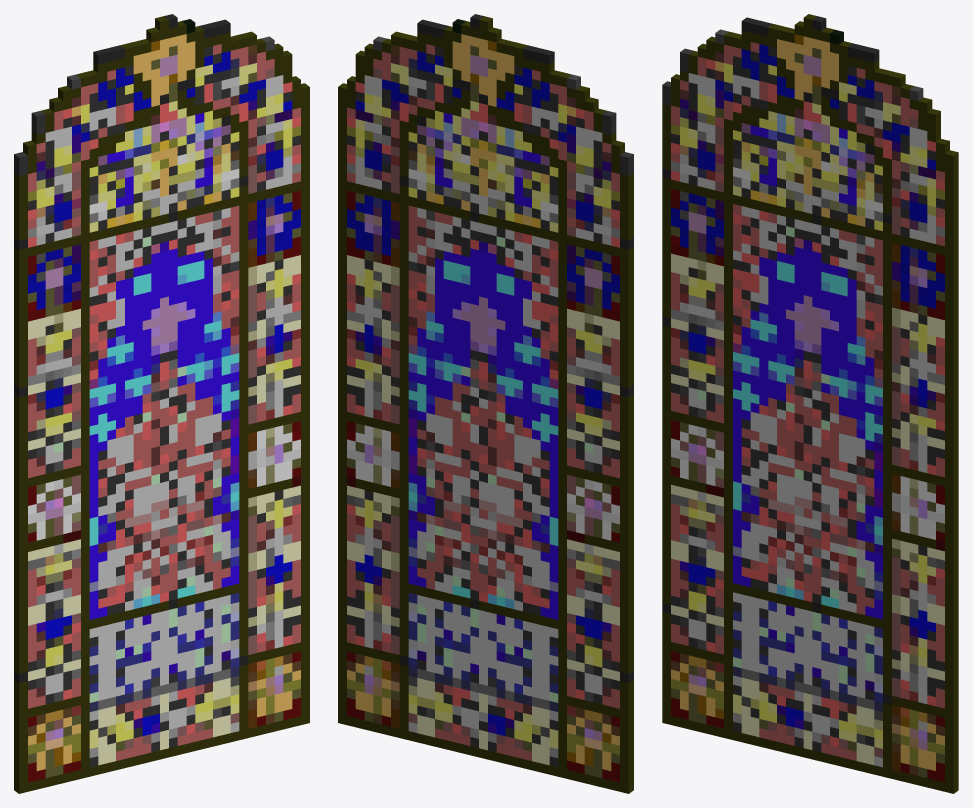
Rendered from glasinlood.obj.
3 views of the same model, side by side, from view 1: azimuth 30°, elevation 25°; view 2: azimuth 150°, elevation 25°; view 3: azimuth 330°, elevation 25° (orthographic).
Parts seen in each view (by area): view 1: pxArt(4); view 2: pxArt(4); view 3: pxArt(4).
Part boxes in pixels (<box>): pxArt(4): <box>14,14,309,793</box>; pxArt(4): <box>338,14,633,793</box>; pxArt(4): <box>662,14,958,793</box>.
Size of the model in its own units: 3.3 by 8 by 0.1.
Materials: 1 (1 with a texture image).
